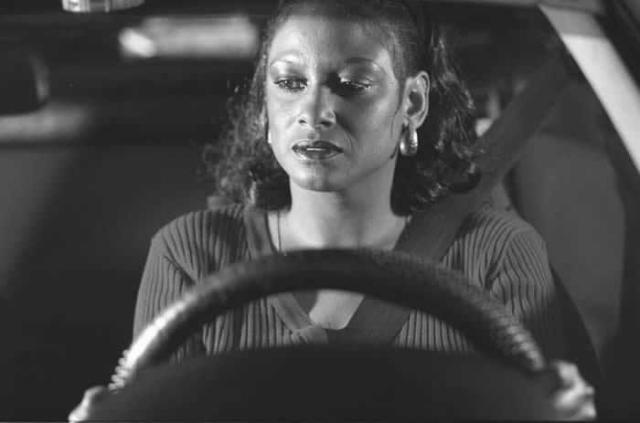SafeDriving: (337, 64, 381, 101), (268, 64, 313, 98)
Seatbelt: (334, 64, 568, 346)
